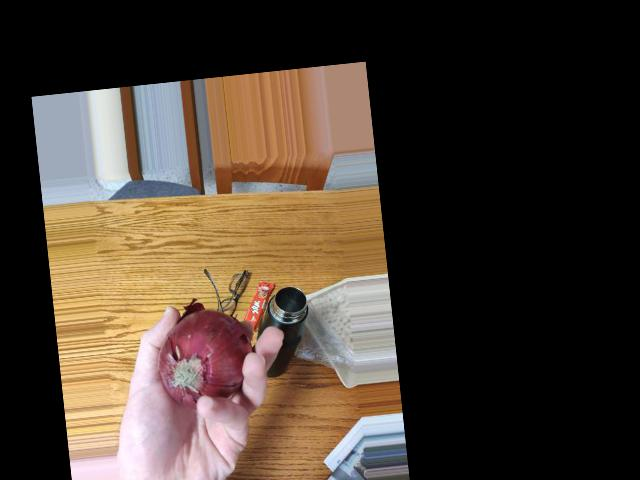onion: (153, 316, 250, 407)
